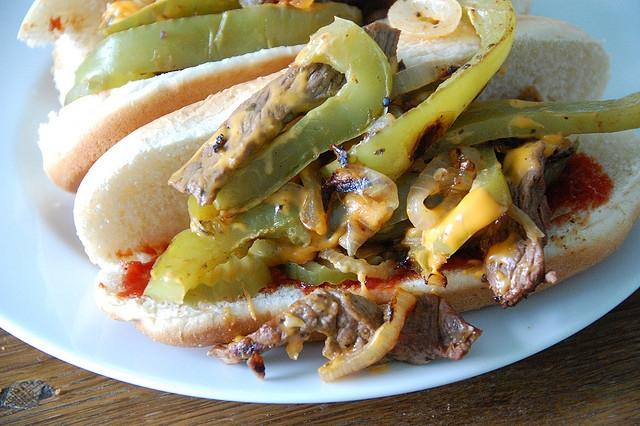bell pepper: (212, 18, 391, 218), (318, 3, 514, 182), (74, 3, 359, 83), (150, 202, 312, 294), (431, 92, 628, 151), (421, 145, 512, 270), (100, 0, 244, 38)
onion: (318, 288, 418, 382), (322, 164, 399, 256), (406, 146, 481, 230), (387, 0, 462, 40)
